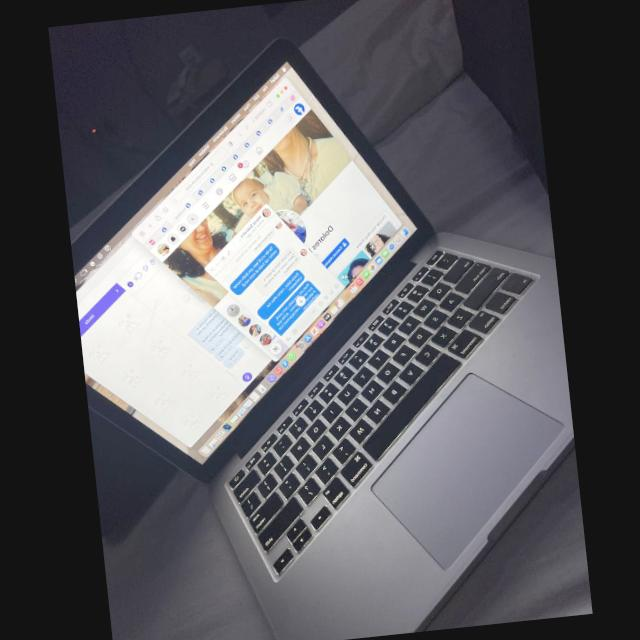laptop: (88, 40, 574, 640)
